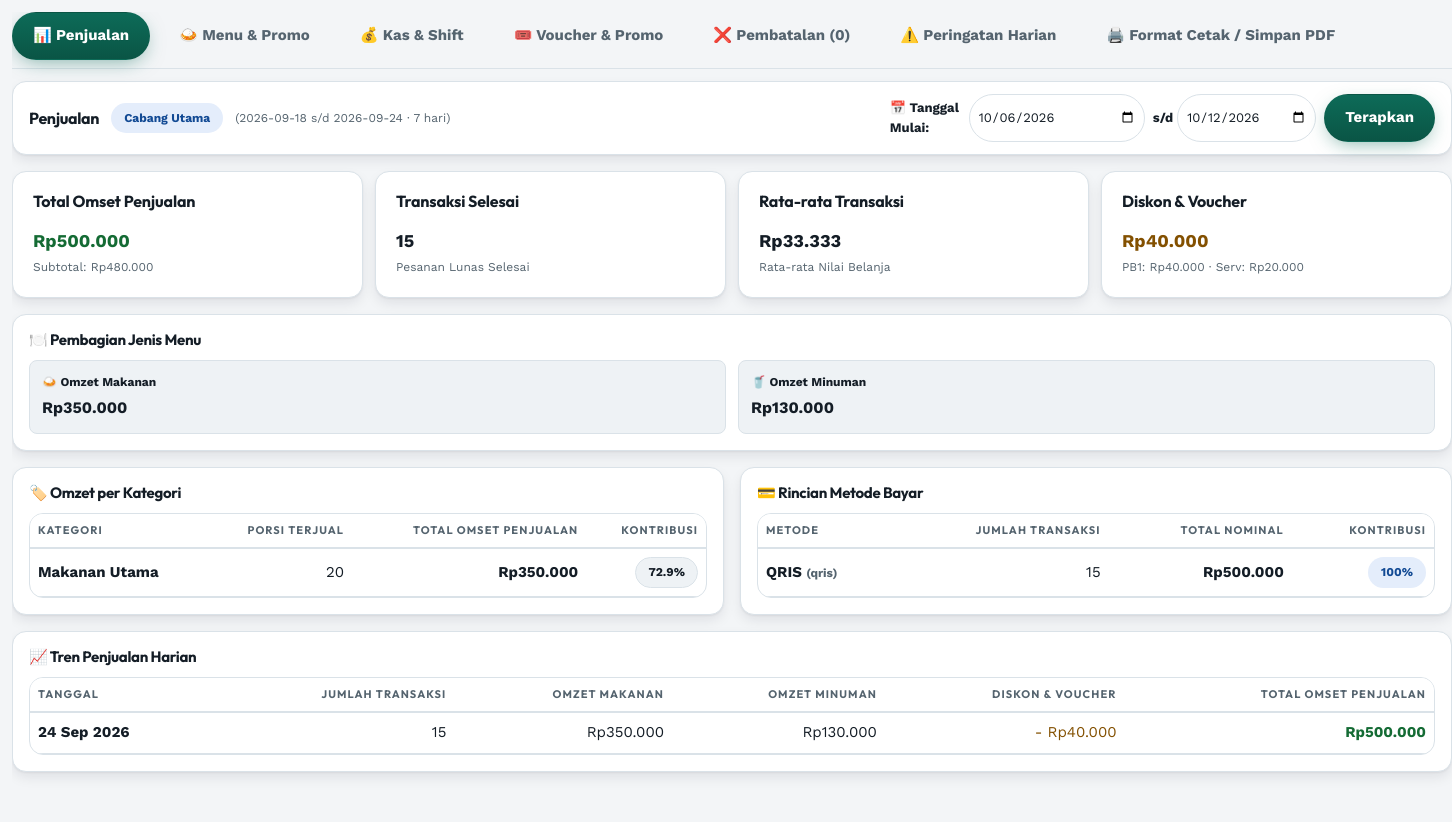
Scenario: LayarLaporan › dapat berpindah ke tab Peringatan Harian dan menampilkan dasbor peringatan
Step 1. Click the button "⚠️ Peringatan Harian" → [978, 36], box [879,12,1077,60]
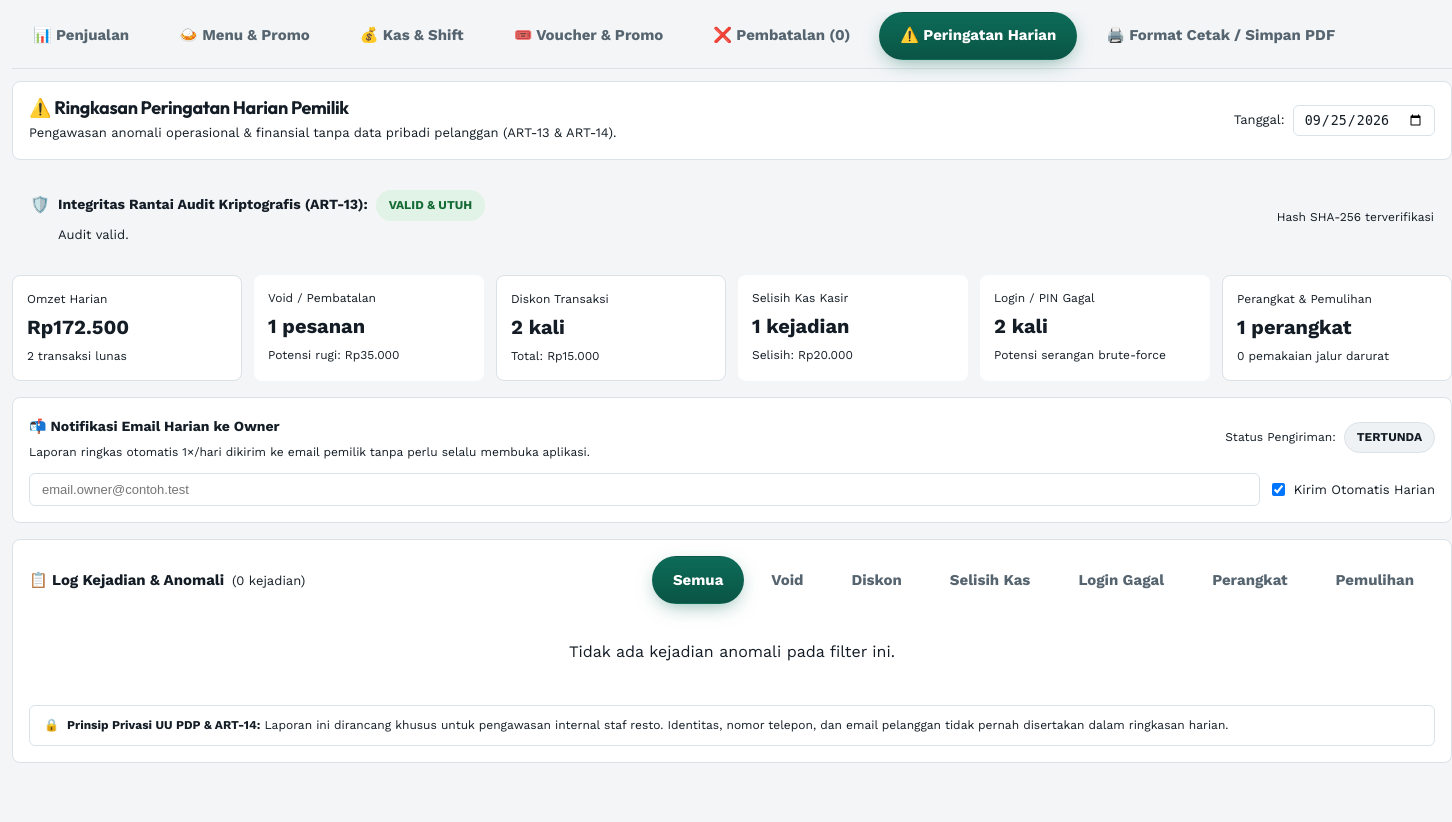
Result: the heading "⚠️ Ringkasan Peringatan Harian Pemilik" is shown at [29,96,349,119]
Result: the text "Rp172.500" is shown at [27,315,129,339]
Result: the text "VALID & UTUH" is shown at [376,190,485,221]
